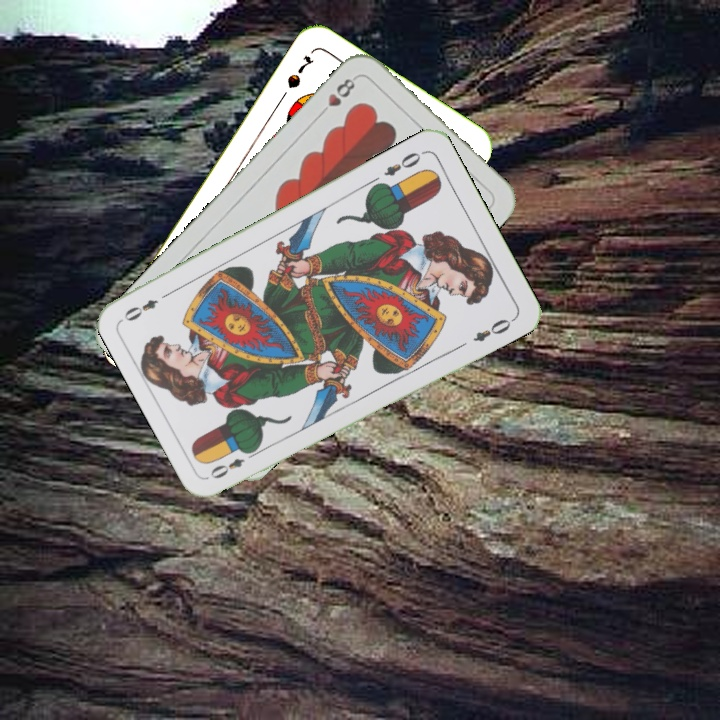EO: (206, 445, 261, 482), (379, 148, 424, 179)
H8: (314, 72, 360, 120)
S7: (283, 51, 317, 91)
